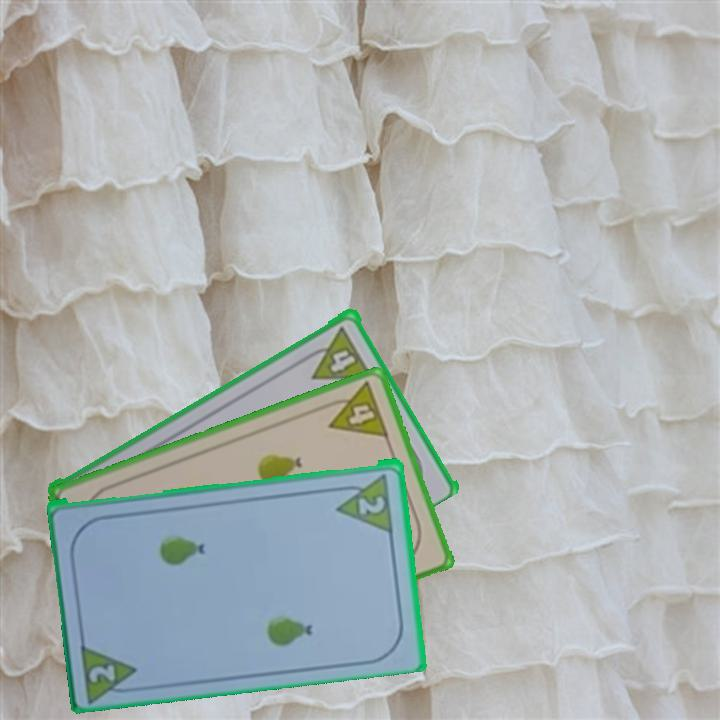2p: (77, 637, 144, 702), (355, 492, 388, 517)
4p: (318, 378, 392, 441), (311, 341, 371, 383)
